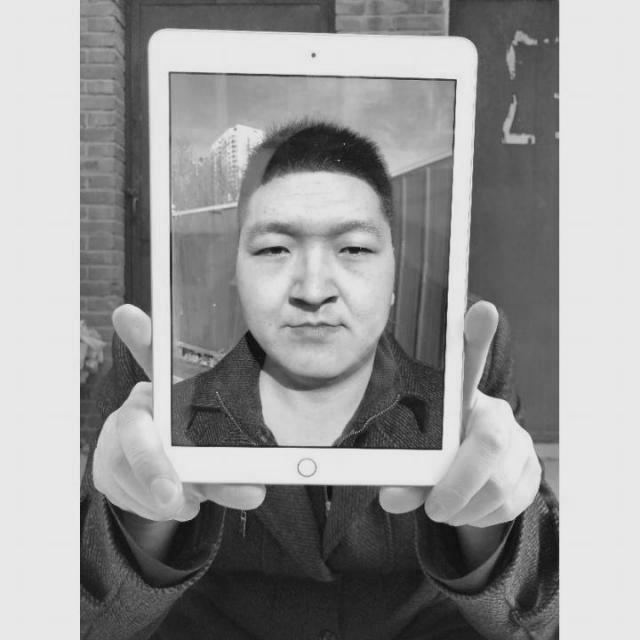fake: (147, 25, 480, 492)
